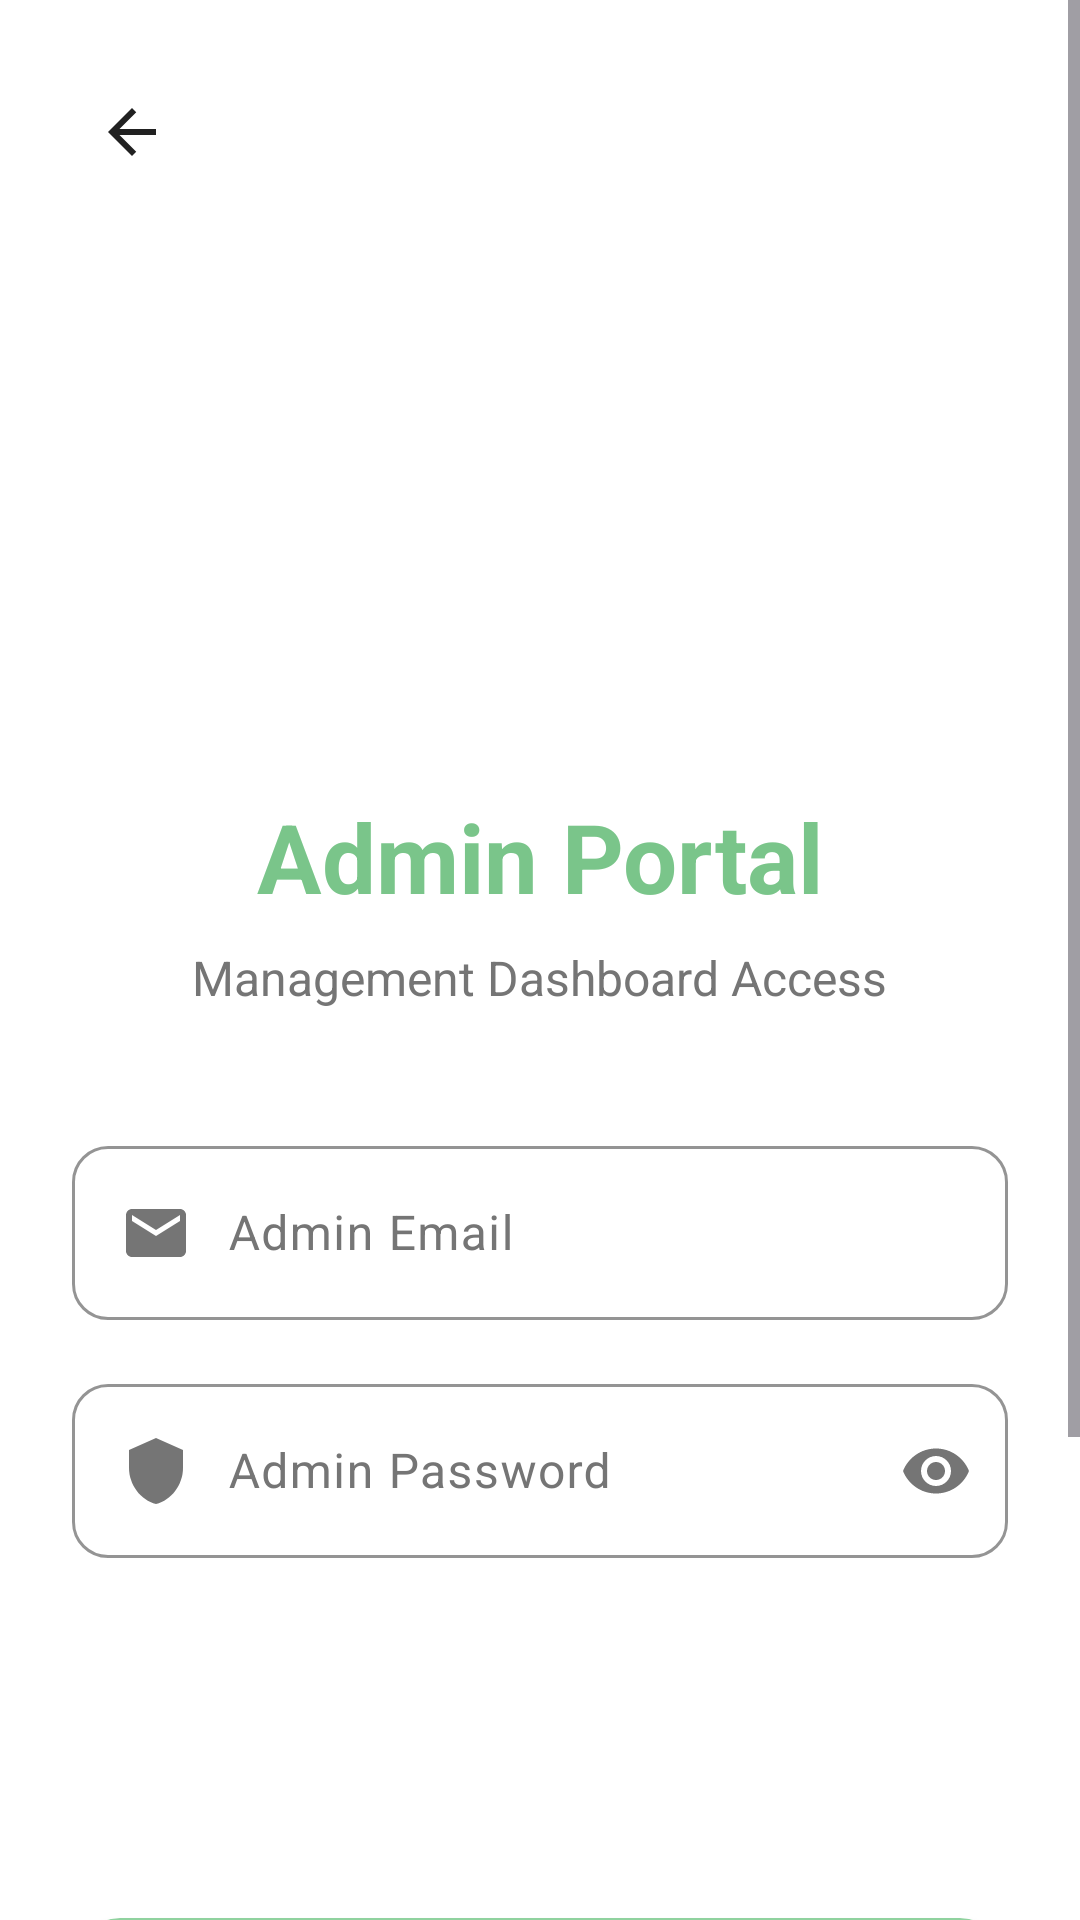

Icon click points for this 1080*1920 phone screenshot, format point (x, y):
Back: point (132, 132)
